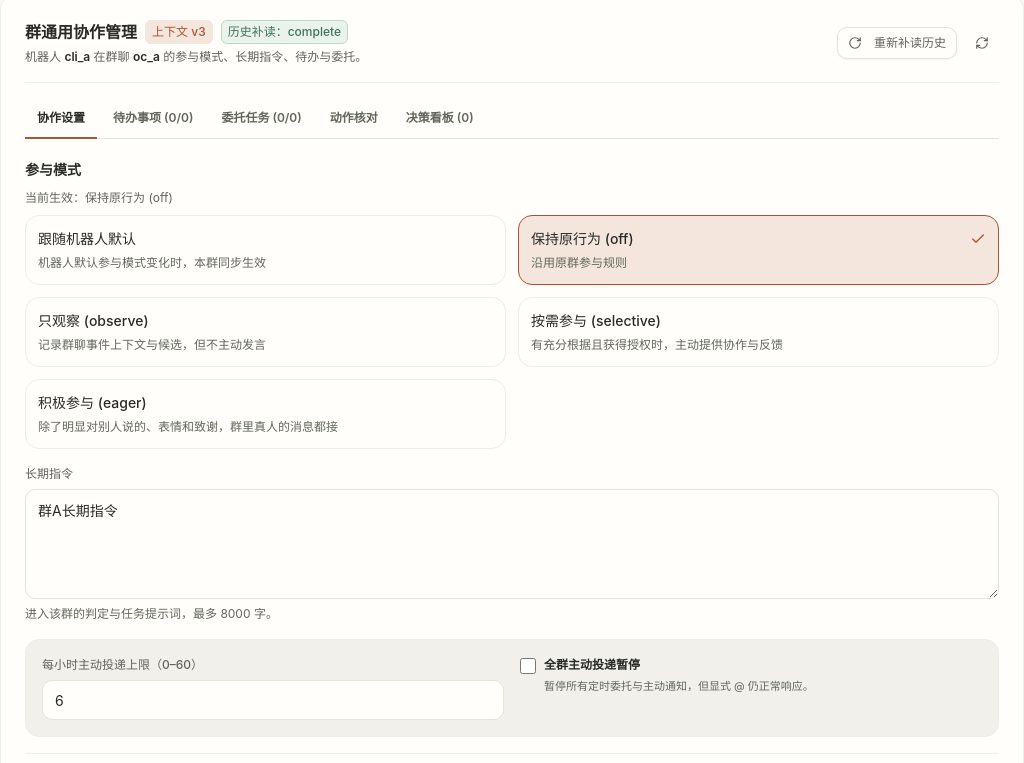
Test case: 协作设置保存与版本冲突 › 保存时带当前 expectedRevision，409 冲突保留草稿而不是谎报成功
Replace the text in the text box labelled "长期指令" with "只观察，不主动发言" at (512, 544), box [25,489,999,599]
(page scrolled)
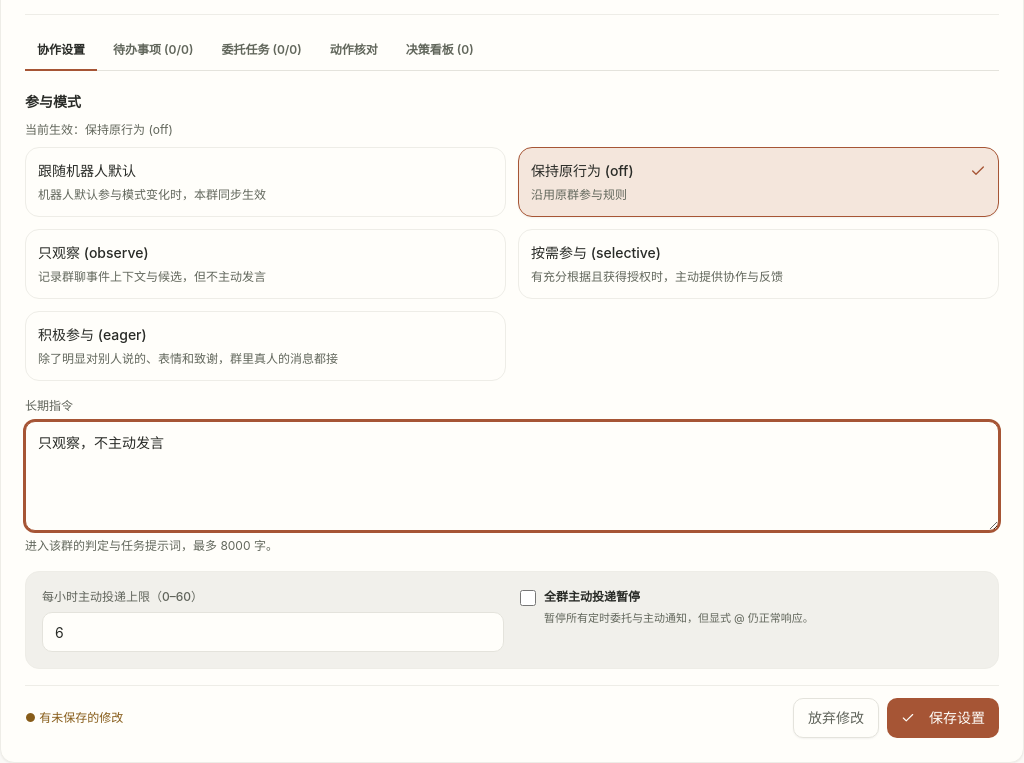
Click the button "保存设置".
click(943, 718)  # box [887,698,999,738]
(page scrolled)
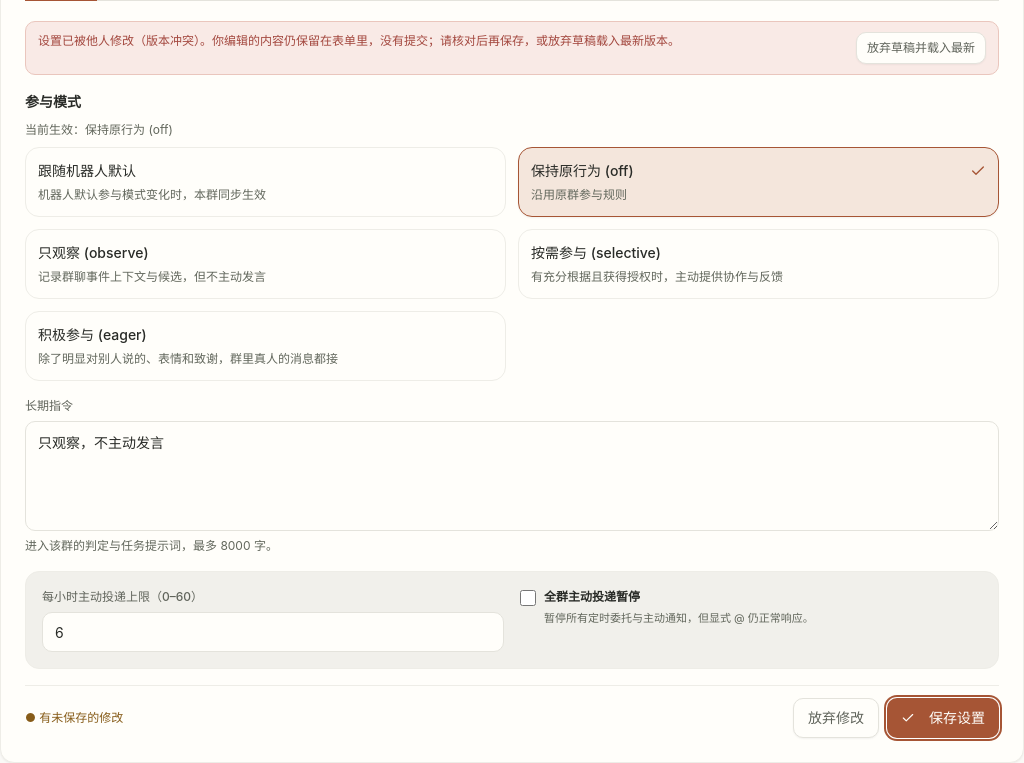
Expected: the text "协作设置已保存。" is not shown
Now the text "设置已被他人修改（版本冲突）。你编辑的内容仍保留在表单里，没有提交；请核对后再保存，或放弃草稿载入最新版本。" is shown, box [38,33,680,48]
用户确认后再次点击重试，第二次成功。
Click the button "保存设置".
click(943, 718)  # box [887,698,999,738]
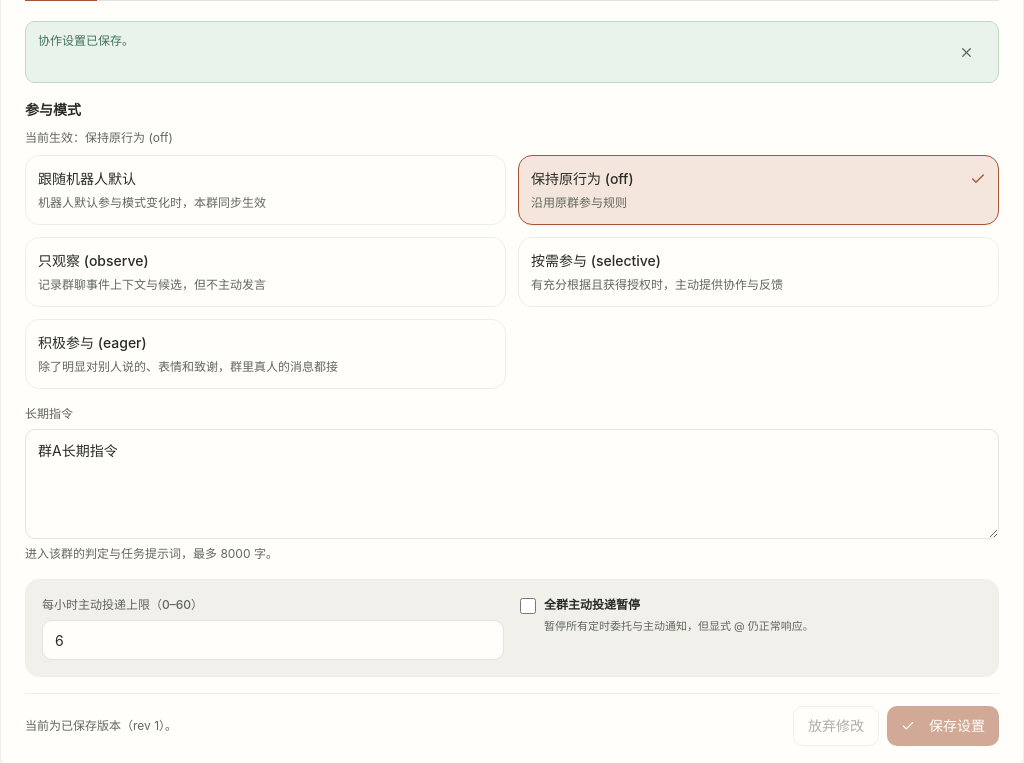
Now the text "协作设置已保存。" is shown, box [38,33,134,48]
